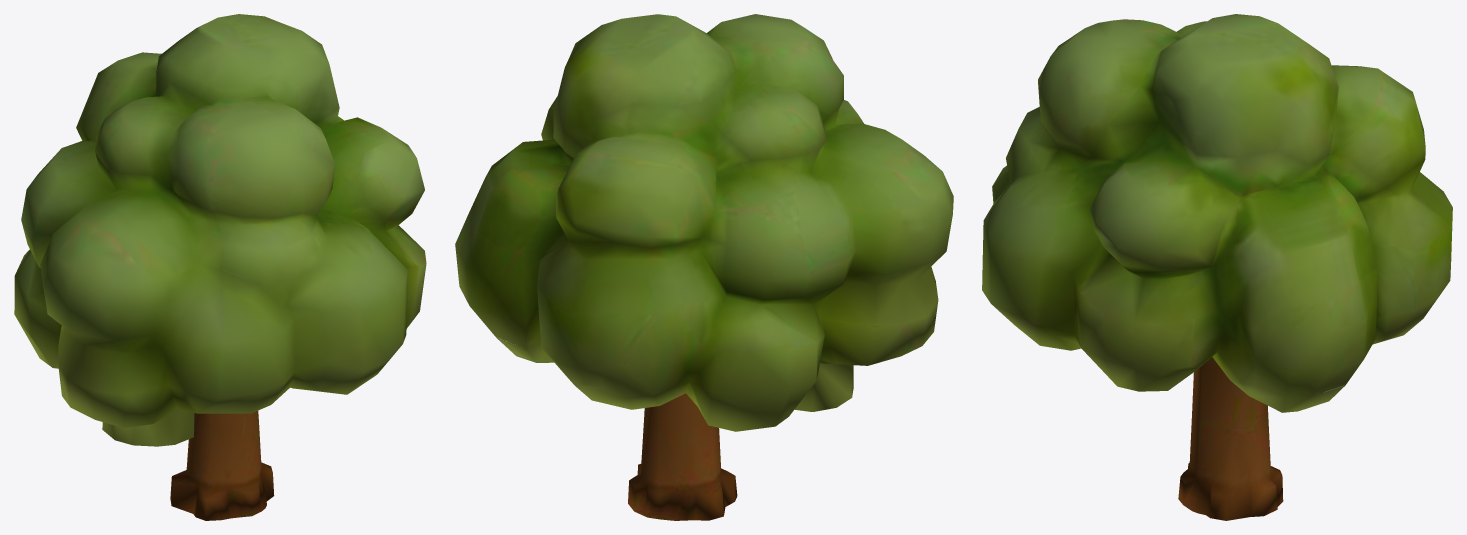
File: tree.glb
The picture shows the model from 3 angles, left to right: view 1: azimuth 30°, elevation 25°; view 2: azimuth 150°, elevation 25°; view 3: azimuth 270°, elevation 25°; orthographic projection. The views are drawn at different scales.
Visible parts, largest first — view 1: tripo_node_713bf695-2ca2-4c12-8e75-16096ca3b9b8; view 2: tripo_node_713bf695-2ca2-4c12-8e75-16096ca3b9b8; view 3: tripo_node_713bf695-2ca2-4c12-8e75-16096ca3b9b8.
Boxes of the visible parts, x1=… form: tripo_node_713bf695-2ca2-4c12-8e75-16096ca3b9b8: x1=14, y1=14, x2=426, y2=520; tripo_node_713bf695-2ca2-4c12-8e75-16096ca3b9b8: x1=455, y1=14, x2=953, y2=520; tripo_node_713bf695-2ca2-4c12-8e75-16096ca3b9b8: x1=982, y1=14, x2=1452, y2=520.
Bounding box in the file's own units: 0.8925 × 1 × 0.8906.
1 material, 1 textured.
